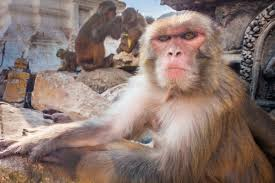monkey: (130, 8, 271, 183), (64, 1, 139, 80), (46, 38, 80, 88), (10, 52, 29, 103)
